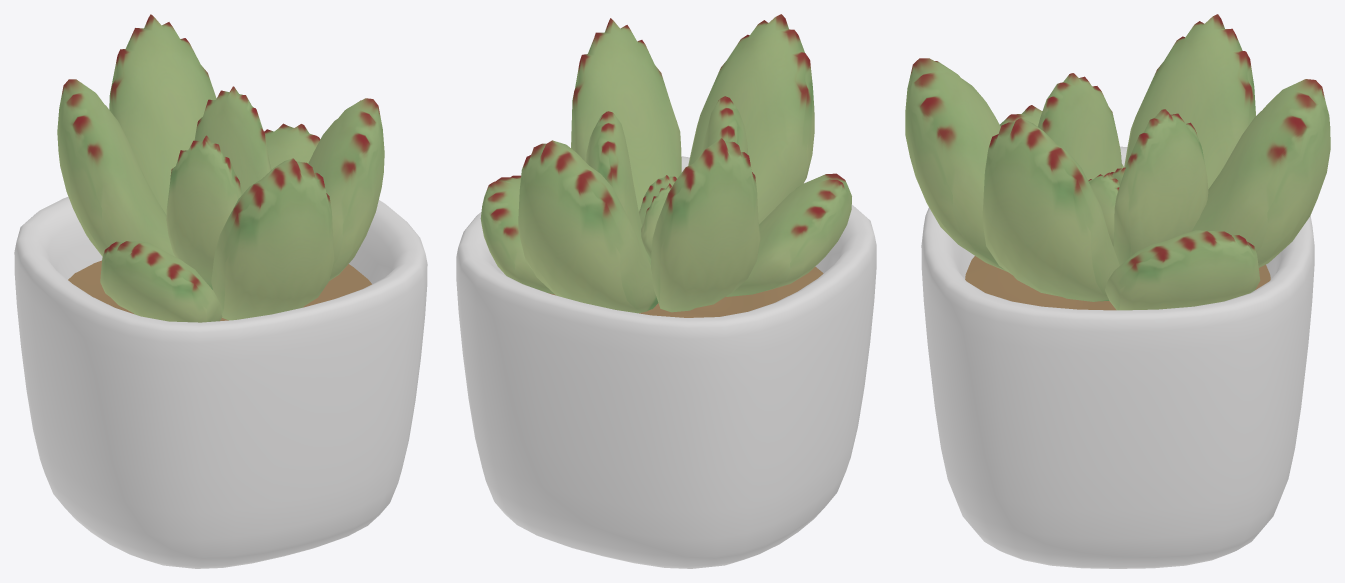
File: plant-5.glb
3 views of the same model, side by side, from view 1: azimuth 30°, elevation 25°; view 2: azimuth 150°, elevation 25°; view 3: azimuth 270°, elevation 25° (orthographic). The views are drawn at different scales.
Parts seen in each view (by area): view 1: Pot005, kumadouji; view 2: Pot005, kumadouji; view 3: Pot005, kumadouji.
Part boxes in pixels (x1=…): Pot005: x1=14, y1=196, x2=427, y2=568; kumadouji: x1=57, y1=14, x2=384, y2=322; Pot005: x1=456, y1=156, x2=876, y2=568; kumadouji: x1=480, y1=14, x2=851, y2=313; Pot005: x1=921, y1=146, x2=1314, y2=568; kumadouji: x1=905, y1=14, x2=1330, y2=310.
Size of the model in its own units: 0.5765 by 0.7023 by 0.5971.
Materials: 3 (1 with a texture image).
